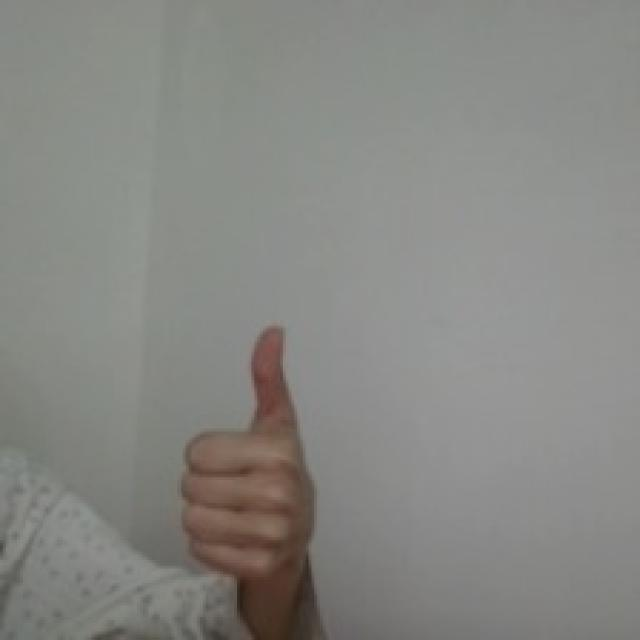fine: (173, 321, 324, 594)
